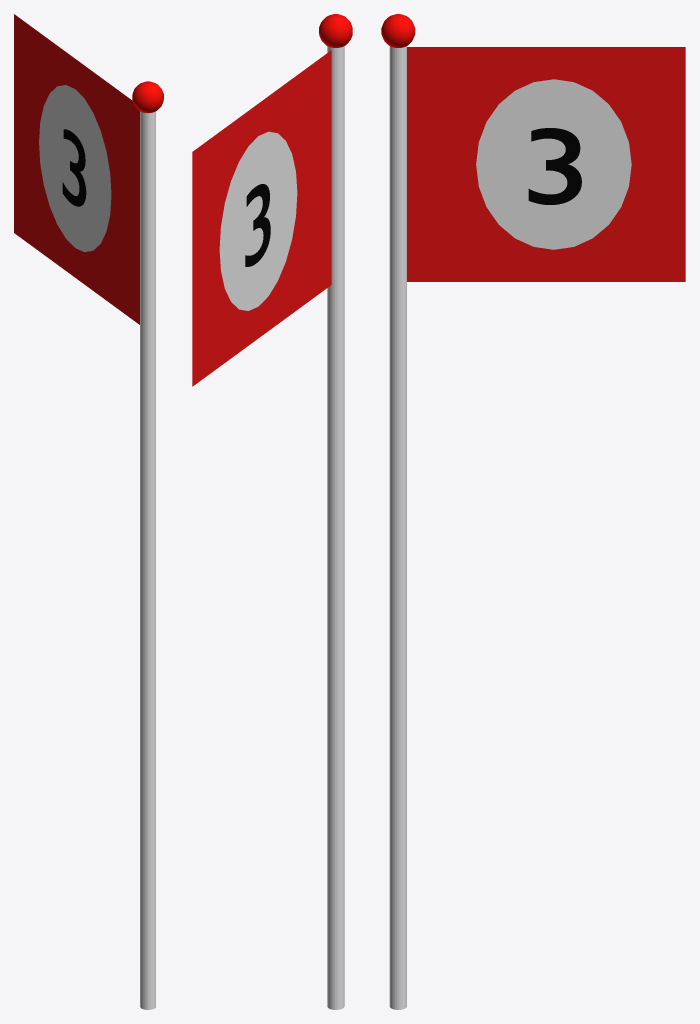
Rendered from Flag 3.fbx.
3 views of the same model, side by side, from view 1: azimuth 30°, elevation 25°; view 2: azimuth 150°, elevation 25°; view 3: azimuth 270°, elevation 25° (orthographic). The views are drawn at different scales.
Parts seen in each view (by area): view 1: Plane.002, Cylinder.002, Circle.002, 1.004, Sphere.002; view 2: Plane.002, Cylinder.002, Circle.002, 1.004, Sphere.002; view 3: Plane.002, Circle.002, Cylinder.002, 1.005, Sphere.002.
Part boxes in pixels (<box>): Plane.002: <box>14,14,139,324</box>; Cylinder.002: <box>140,111,155,1009</box>; Circle.002: <box>39,85,111,252</box>; 1.004: <box>62,129,86,206</box>; Sphere.002: <box>132,81,163,113</box>; Plane.002: <box>192,50,331,386</box>; Cylinder.002: <box>327,46,344,1009</box>; Circle.002: <box>219,131,297,310</box>; 1.004: <box>245,184,270,266</box>; Sphere.002: <box>319,14,352,47</box>; Plane.002: <box>407,47,685,281</box>; Circle.002: <box>476,79,631,249</box>; Cylinder.002: <box>389,46,406,1009</box>; 1.005: <box>528,128,581,204</box>; Sphere.002: <box>381,14,415,47</box>.
Size of the model in its own units: 3.94 by 127 by 35.22.
